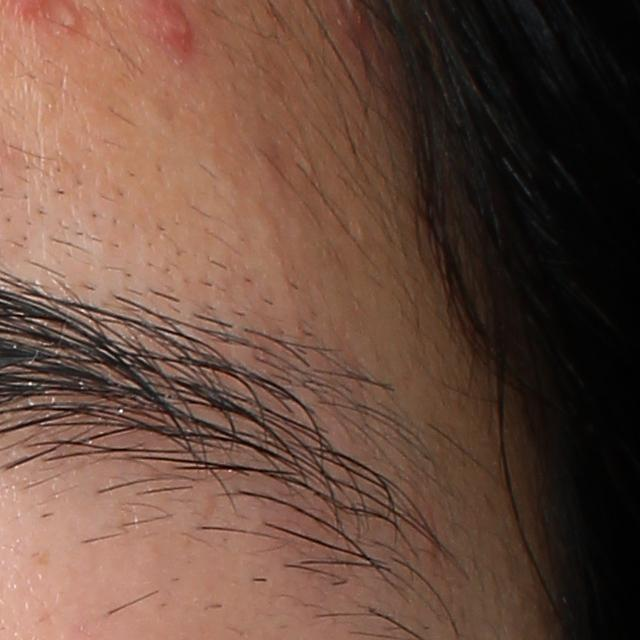pustule: (55, 2, 80, 33)
